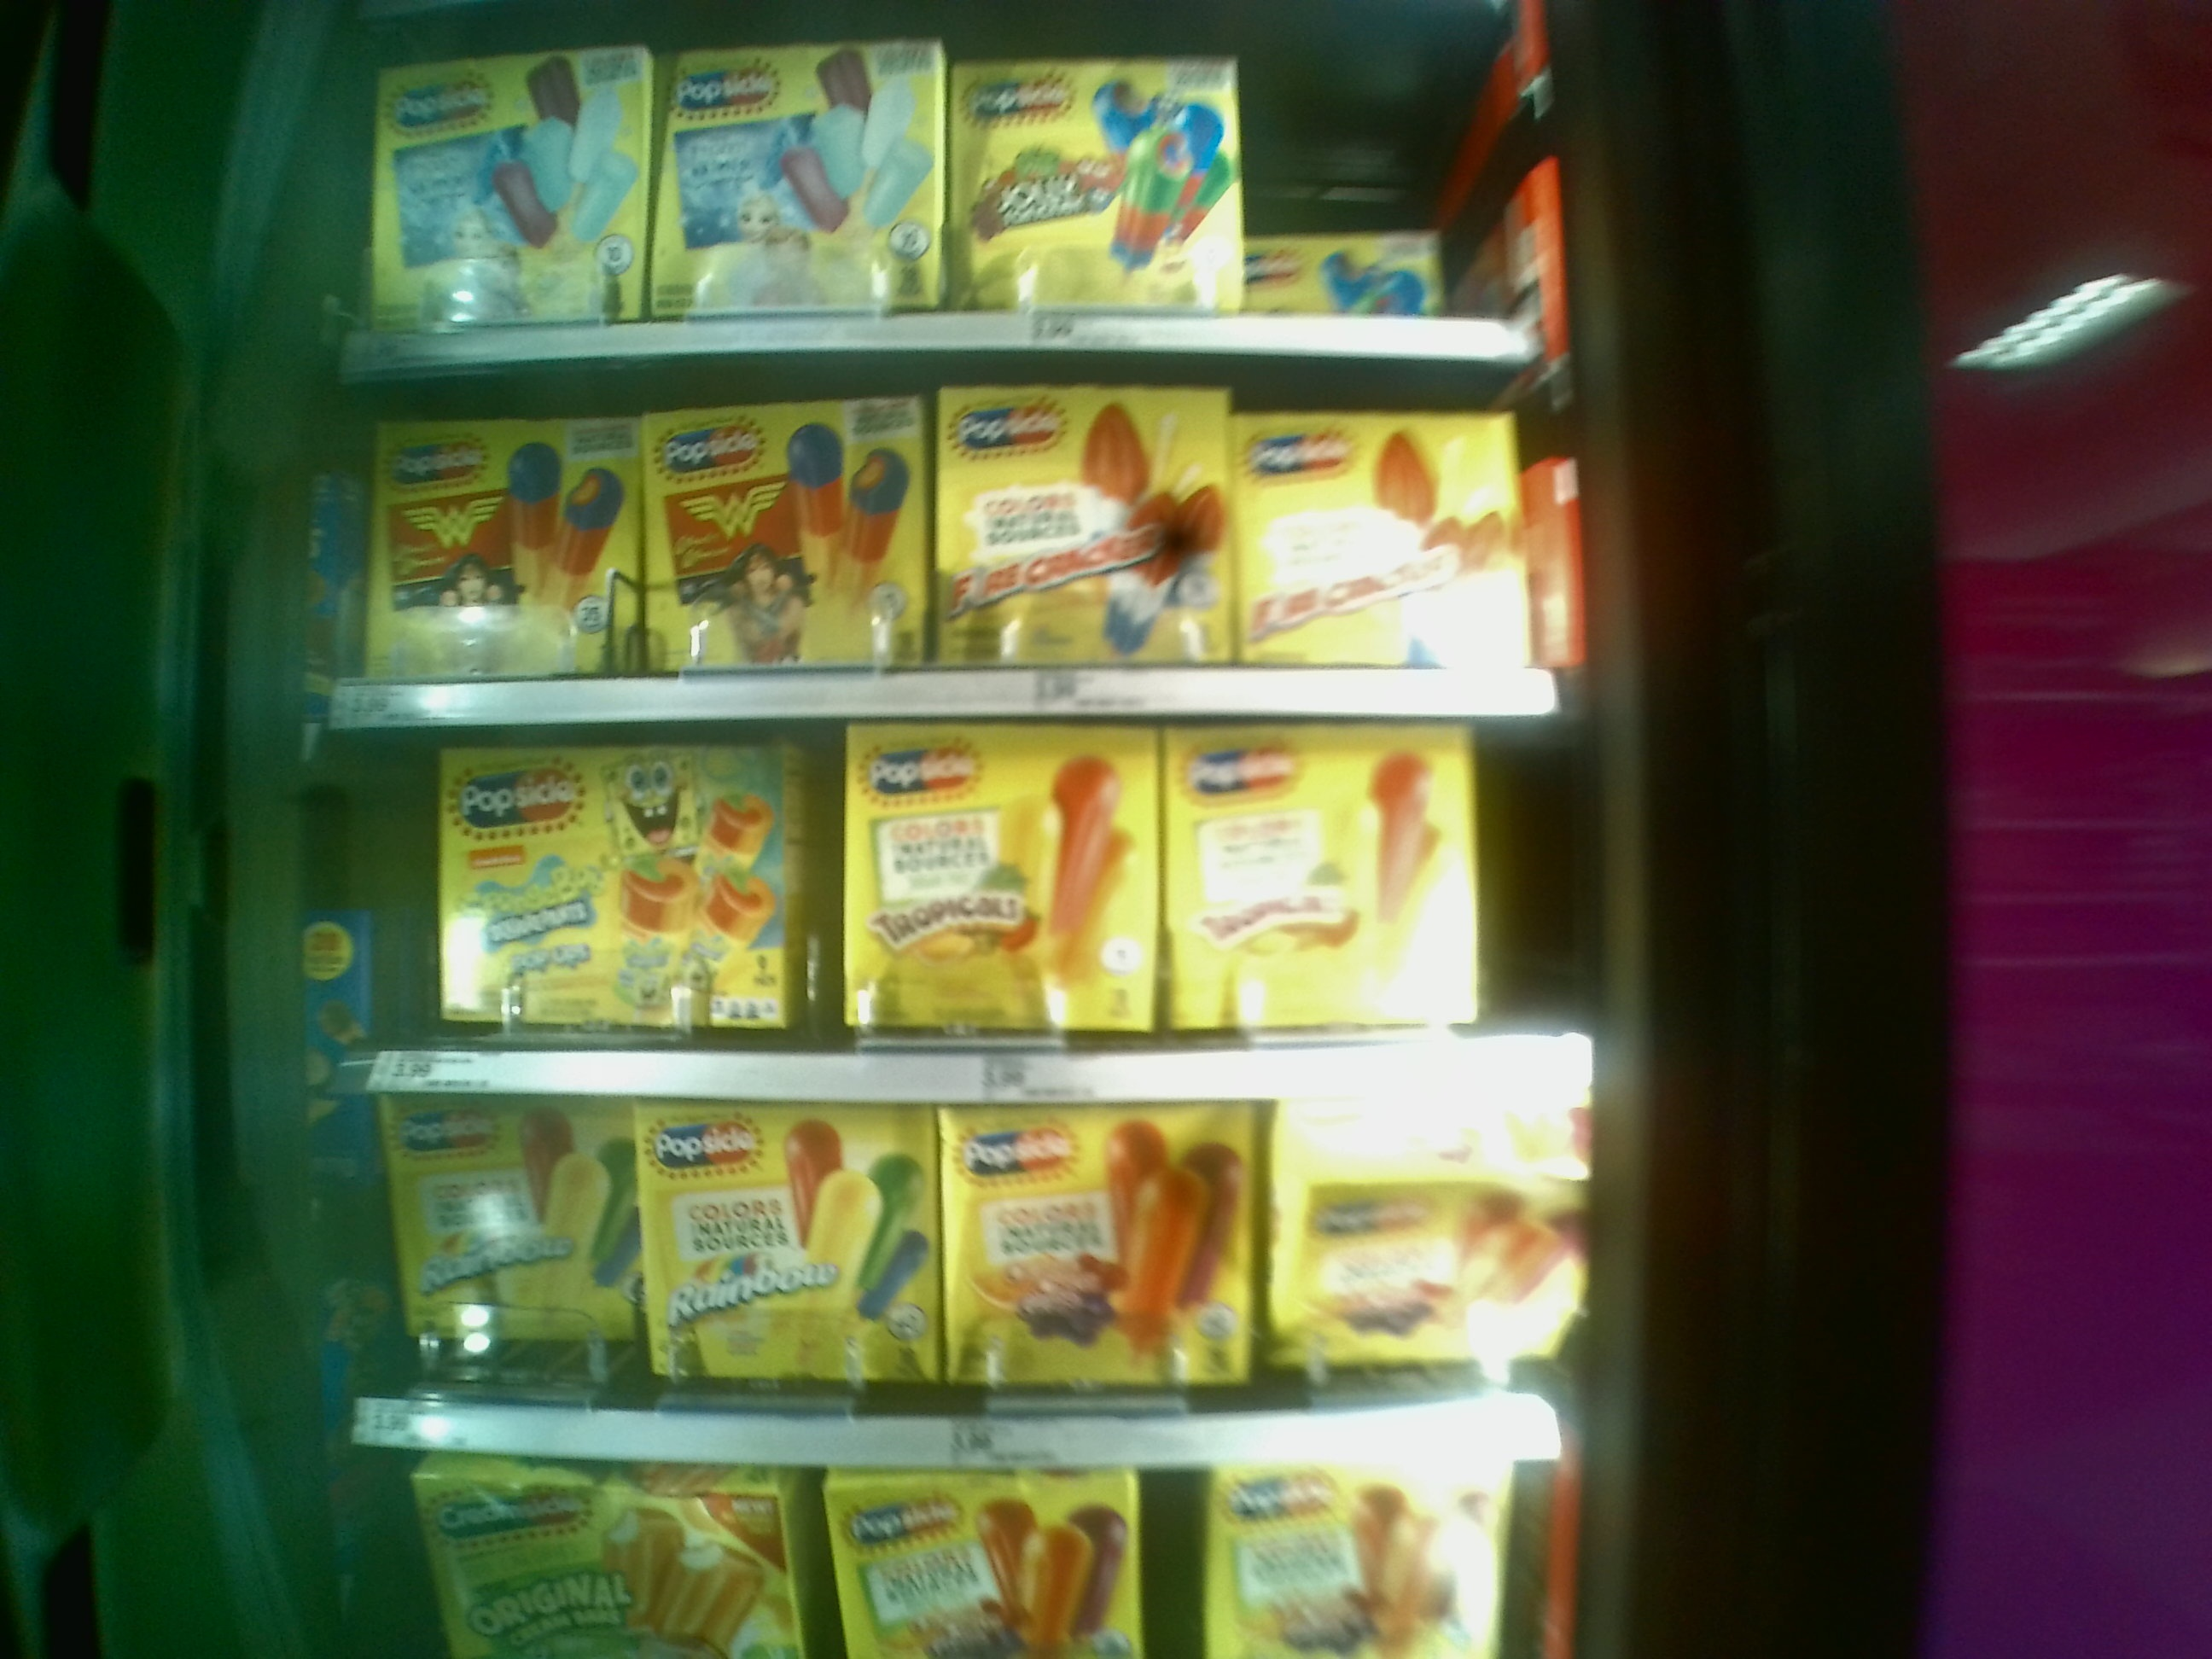frozen-food-shelf: (320, 727, 1594, 1108), (320, 1108, 1609, 1471), (320, 375, 1564, 713)
